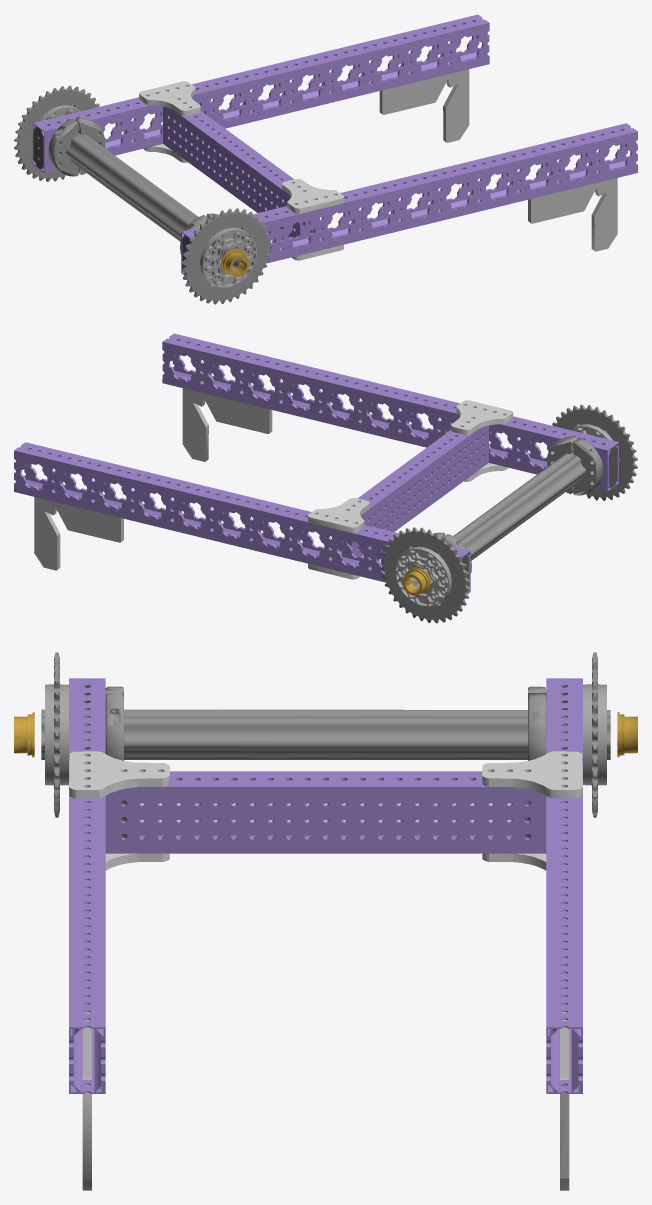
File: Arm.dae
3 views of the same model, one above another, from view 1: azimuth 30°, elevation 25°; view 2: azimuth 150°, elevation 25°; view 3: azimuth 270°, elevation 25° (orthographic). The views are drawn at different scales.
Parts seen in each view (by area): view 1: Stepped Bushing - 3/4in ID (REV-21-2396).011; view 2: Stepped Bushing - 3/4in ID (REV-21-2396).011; view 3: Stepped Bushing - 3/4in ID (REV-21-2396).011.
Boxes of the visible parts, x1,y1,x2,y2 form: Stepped Bushing - 3/4in ID (REV-21-2396).011: [14, 14, 637, 304]; Stepped Bushing - 3/4in ID (REV-21-2396).011: [14, 333, 637, 623]; Stepped Bushing - 3/4in ID (REV-21-2396).011: [14, 652, 637, 1190].
Bounding box in the file's own units: 0.5904 × 0.4317 × 0.1717.
